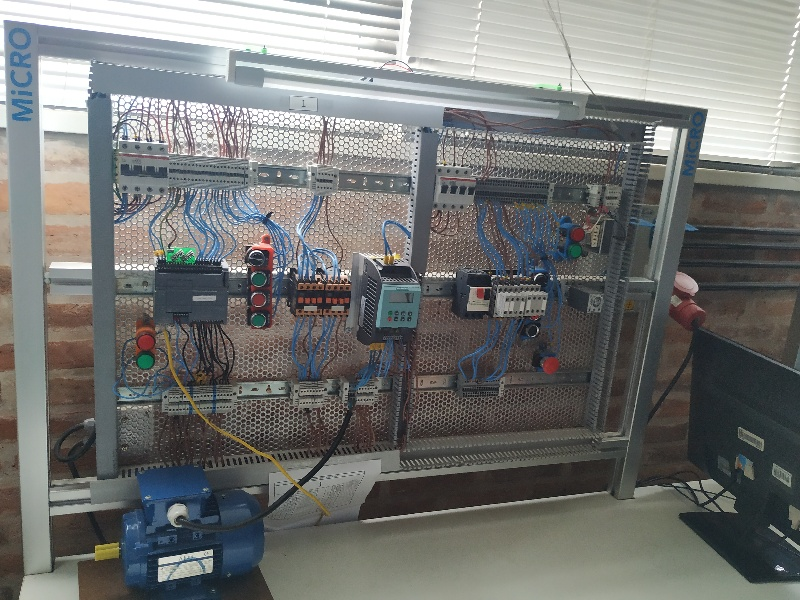Tablero 1: (105, 83, 633, 470)
